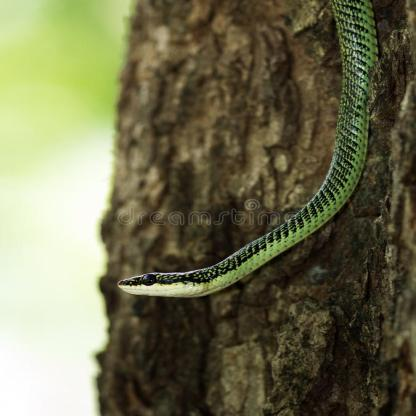Snake: (115, 2, 383, 302)
